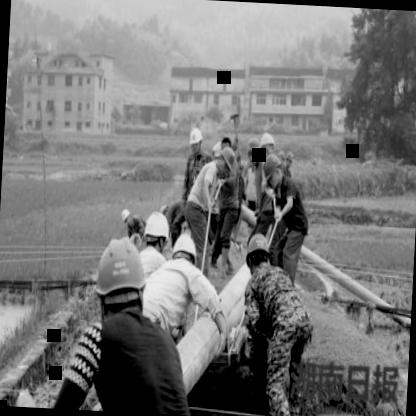helmet: (90, 233, 148, 328), (142, 209, 170, 260), (170, 230, 200, 274), (244, 231, 272, 278), (260, 150, 282, 190), (256, 129, 276, 162), (187, 128, 206, 156), (216, 144, 234, 173), (245, 136, 260, 167), (119, 203, 133, 227)
